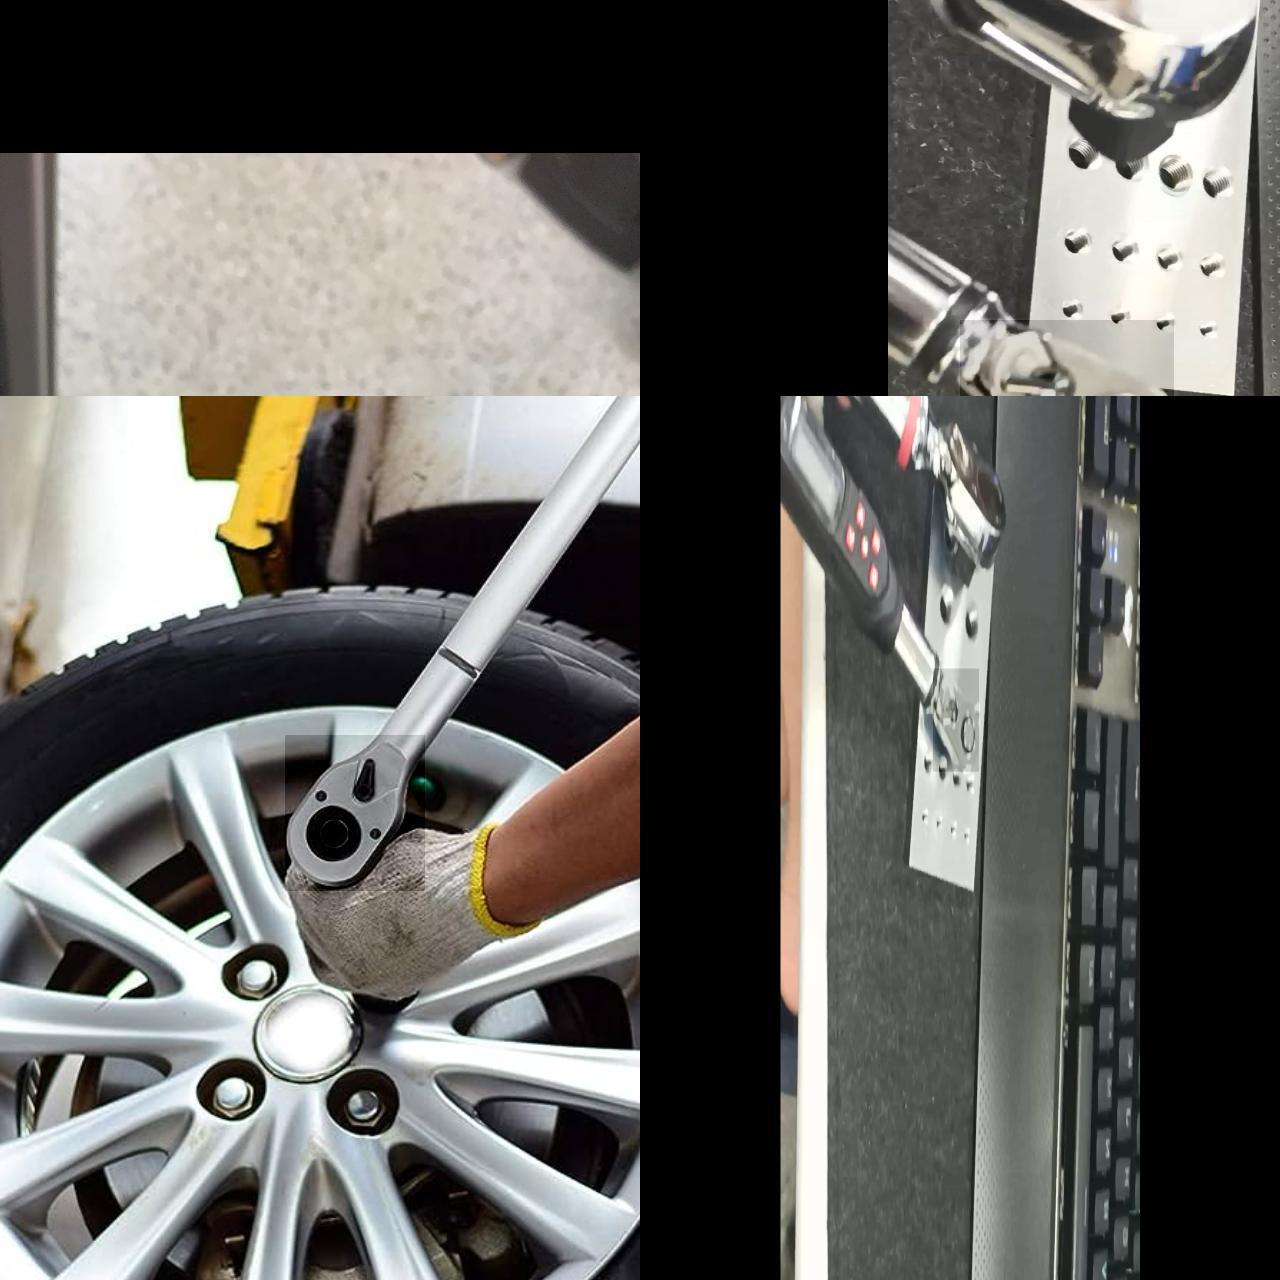Tool: (284, 735, 424, 891), (959, 320, 1173, 396), (921, 396, 1007, 573), (932, 668, 978, 772)
